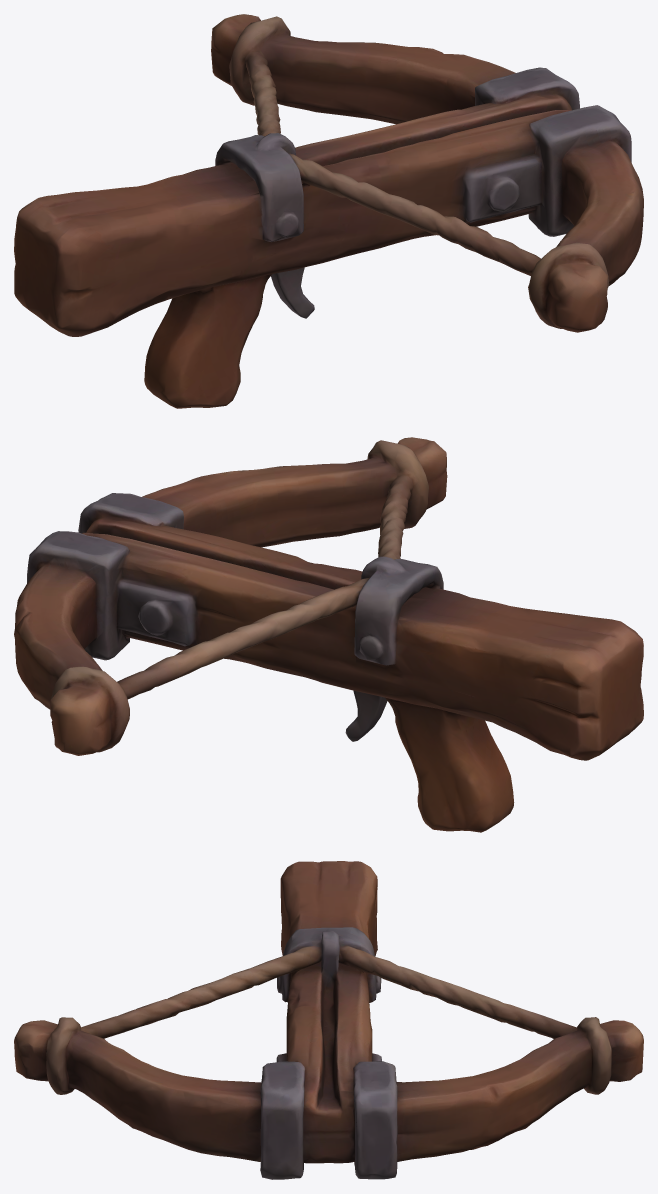
The model's file is Arm_hand_xbow-zadAxXae.glb.
3 renders of one model, top to bottom at view 1: azimuth 30°, elevation 25°; view 2: azimuth 150°, elevation 25°; view 3: azimuth 270°, elevation 25°, orthographic. The views are drawn at different scales.
Parts seen in each view (by area): view 1: Arm_hand_xbow; view 2: Arm_hand_xbow; view 3: Arm_hand_xbow.
Part boxes in pixels (box(x1,y1,x2,y2)): Arm_hand_xbow: box(14, 14, 643, 408); Arm_hand_xbow: box(14, 437, 643, 832); Arm_hand_xbow: box(14, 861, 643, 1179).
Bounding box in the file's own units: 0.85 × 0.3575 × 0.9599.
1 material, 1 textured.
